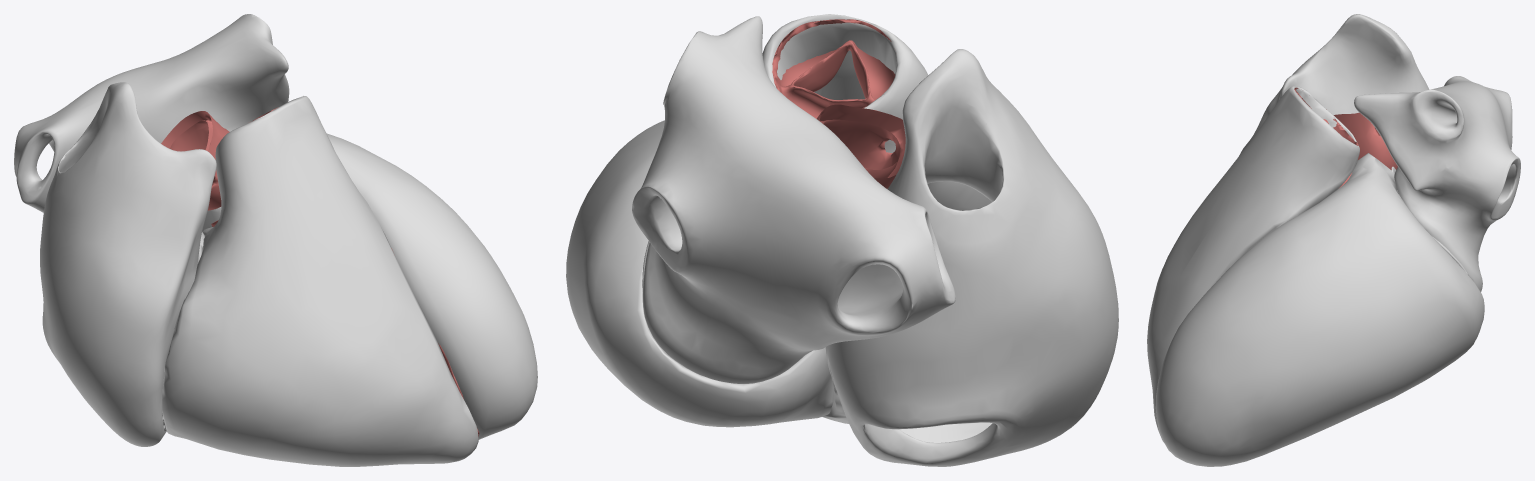
File: vh_m_heart-40.fbx
3 views of the same model, side by side, from view 1: azimuth 30°, elevation 25°; view 2: azimuth 150°, elevation 25°; view 3: azimuth 270°, elevation 25° (orthographic). The views are drawn at different scales.
Parts seen in each view (by area): view 1: VH_M_heart_right_ventricle, VH_M_right_cardiac_atrium, VH_M_heart_left_ventricle, VH_M_left_cardiac_atrium, VH_M_aortic_valve; view 2: VH_M_left_cardiac_atrium, VH_M_right_cardiac_atrium, VH_M_heart_left_ventricle, VH_M_heart_right_ventricle, VH_M_pulmonary_valve, VH_M_aortic_valve; view 3: VH_M_heart_left_ventricle, VH_M_heart_right_ventricle, VH_M_left_cardiac_atrium, VH_M_right_cardiac_atrium, VH_M_aortic_valve.
Part boxes in pixels (x1,y1,x2,y2): VH_M_heart_right_ventricle: (162, 96, 478, 466); VH_M_right_cardiac_atrium: (40, 82, 216, 446); VH_M_heart_left_ventricle: (202, 133, 537, 439); VH_M_left_cardiac_atrium: (14, 14, 289, 212); VH_M_aortic_valve: (161, 111, 229, 210); VH_M_left_cardiac_atrium: (632, 16, 955, 383); VH_M_right_cardiac_atrium: (825, 49, 1118, 466); VH_M_heart_left_ventricle: (566, 120, 833, 427); VH_M_heart_right_ventricle: (762, 14, 928, 423); VH_M_pulmonary_valve: (772, 19, 895, 118); VH_M_aortic_valve: (817, 104, 905, 188); VH_M_heart_left_ventricle: (1155, 153, 1484, 466); VH_M_heart_right_ventricle: (1147, 86, 1359, 442); VH_M_left_cardiac_atrium: (1354, 76, 1520, 291); VH_M_right_cardiac_atrium: (1239, 14, 1429, 155); VH_M_aortic_valve: (1334, 112, 1397, 169).
Bounding box in the file's own units: 12.43 × 10.54 × 10.53.
